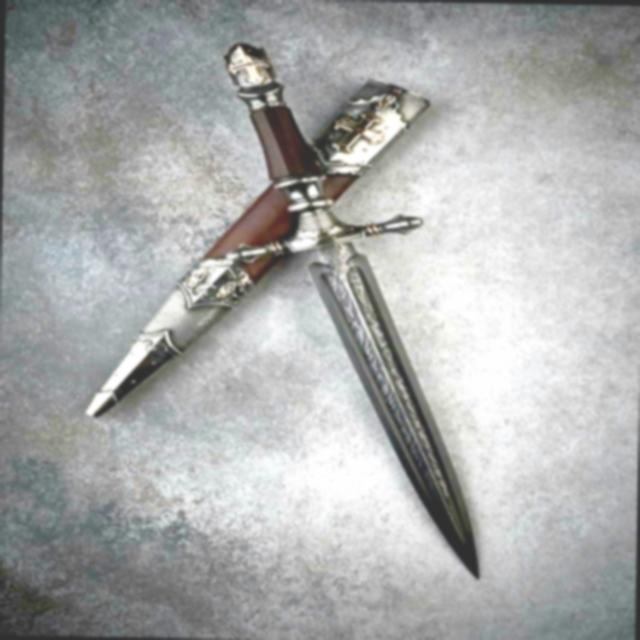short sword: (71, 26, 534, 604)
